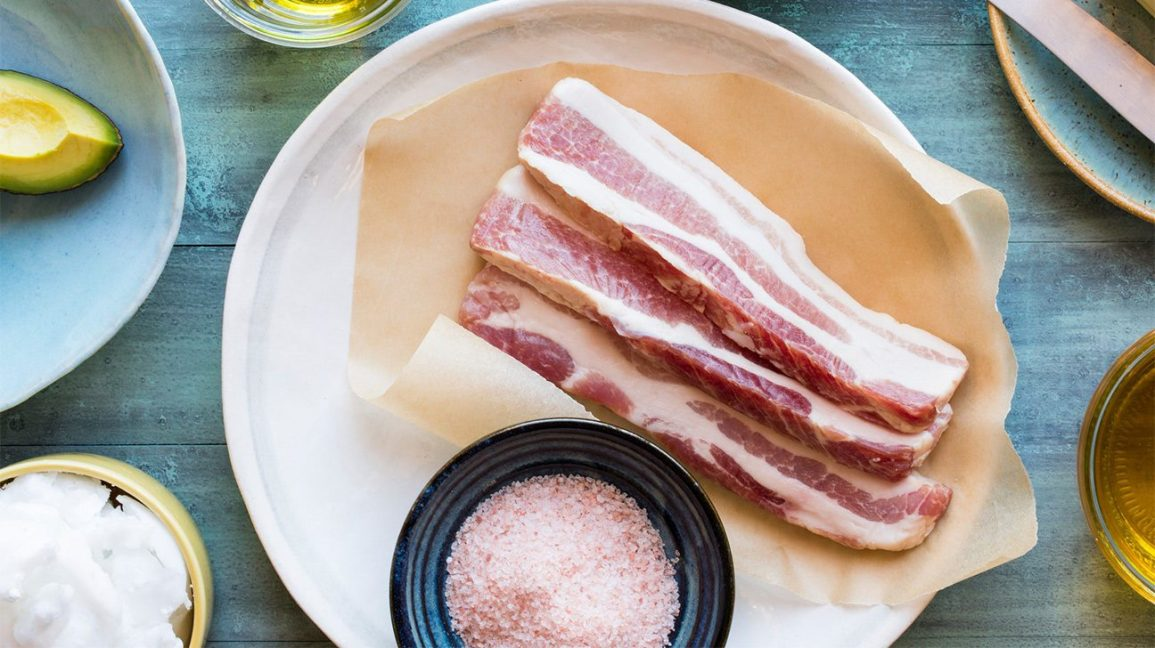bacon: (421, 115, 1029, 555)
